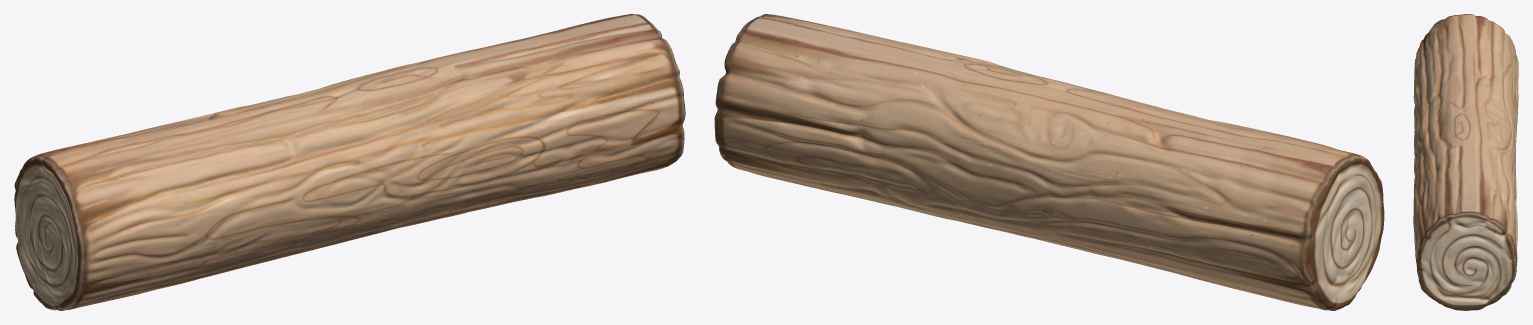
Rendered from Meshy_AI_Timber_Roll_0202102604_texture.fbx.
3 views of the same model, side by side, from view 1: azimuth 30°, elevation 25°; view 2: azimuth 150°, elevation 25°; view 3: azimuth 270°, elevation 25° (orthographic). The views are drawn at different scales.
Visible parts, largest first — view 1: Mesh_0; view 2: Mesh_0; view 3: Mesh_0.
Part boxes in pixels (x1=…): Mesh_0: x1=14, y1=14, x2=685, y2=310; Mesh_0: x1=714, y1=14, x2=1384, y2=310; Mesh_0: x1=1413, y1=14, x2=1518, y2=310.
Size of the model in its own units: 200 by 46.97 by 44.37.
Materials: 1 (1 with a texture image).
